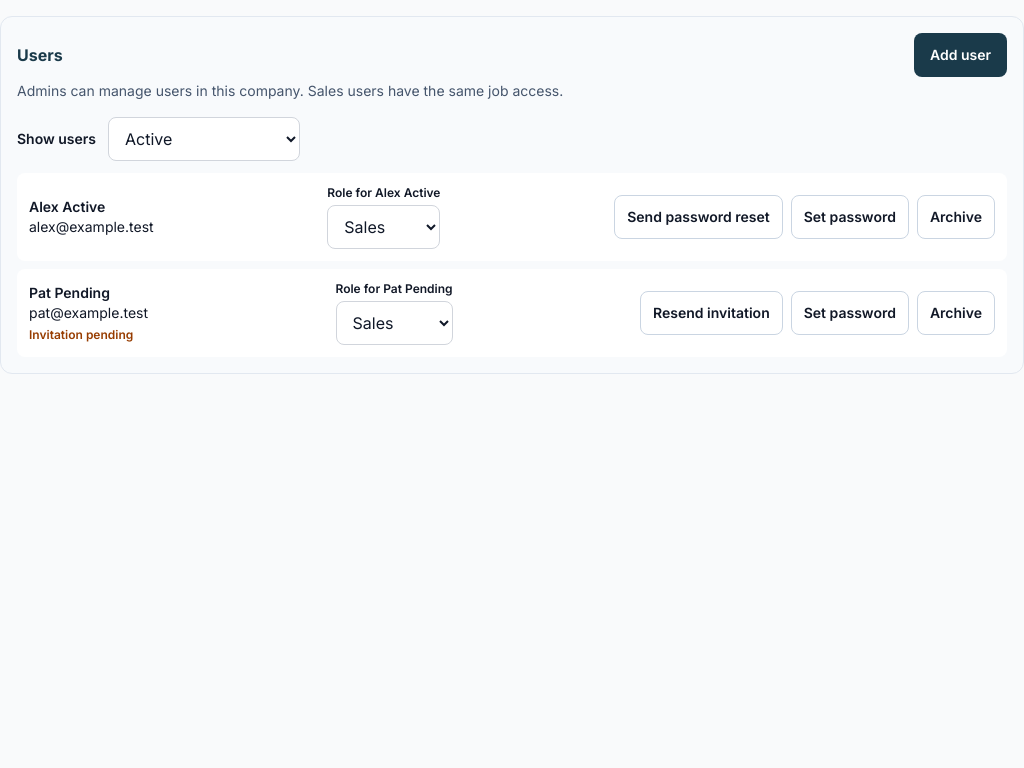
Test: Partner account management in normal Settings › defaults to invitations without password fields and refreshes users after sent email
Check: the text "Alex Active" is shown, box left=29, top=198, right=105, bottom=215
Click the button "Add user" at (960, 55), box left=914, top=33, right=1007, bottom=77
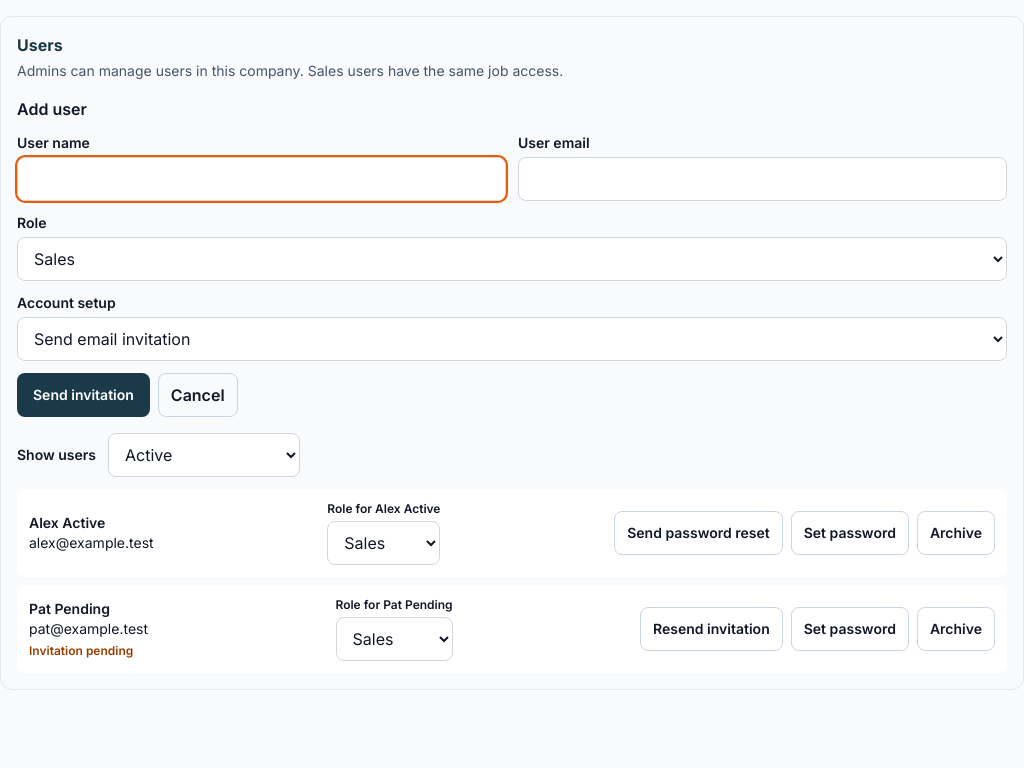
Type "New Person" into the field labelled "User name" at (262, 179), box left=17, top=157, right=506, bottom=201
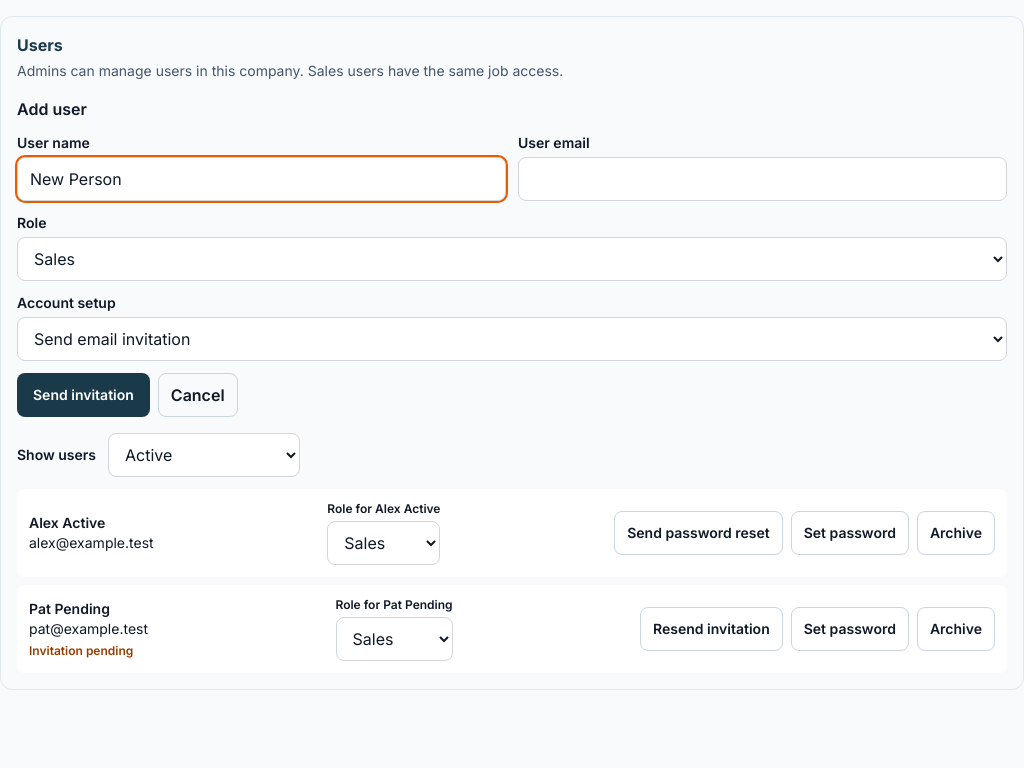
Type "NEW@example.test" into the field labelled "User email" at (762, 179), box left=518, top=157, right=1007, bottom=201
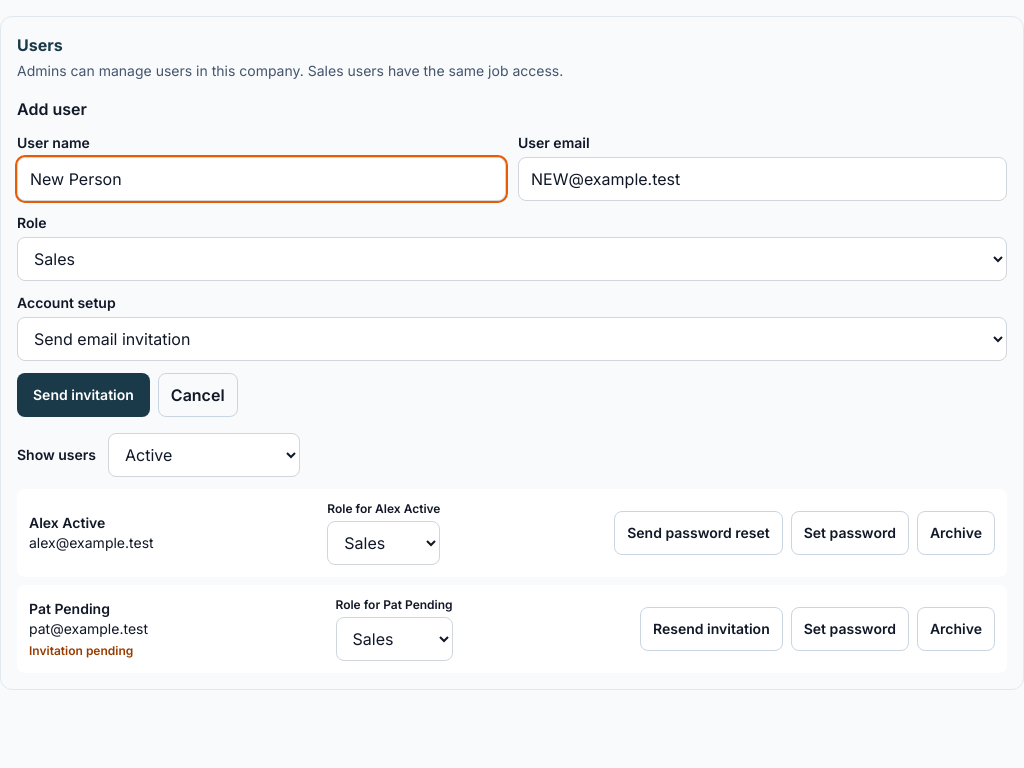
Click the button "Send invitation" at (83, 395), box left=17, top=373, right=150, bottom=417
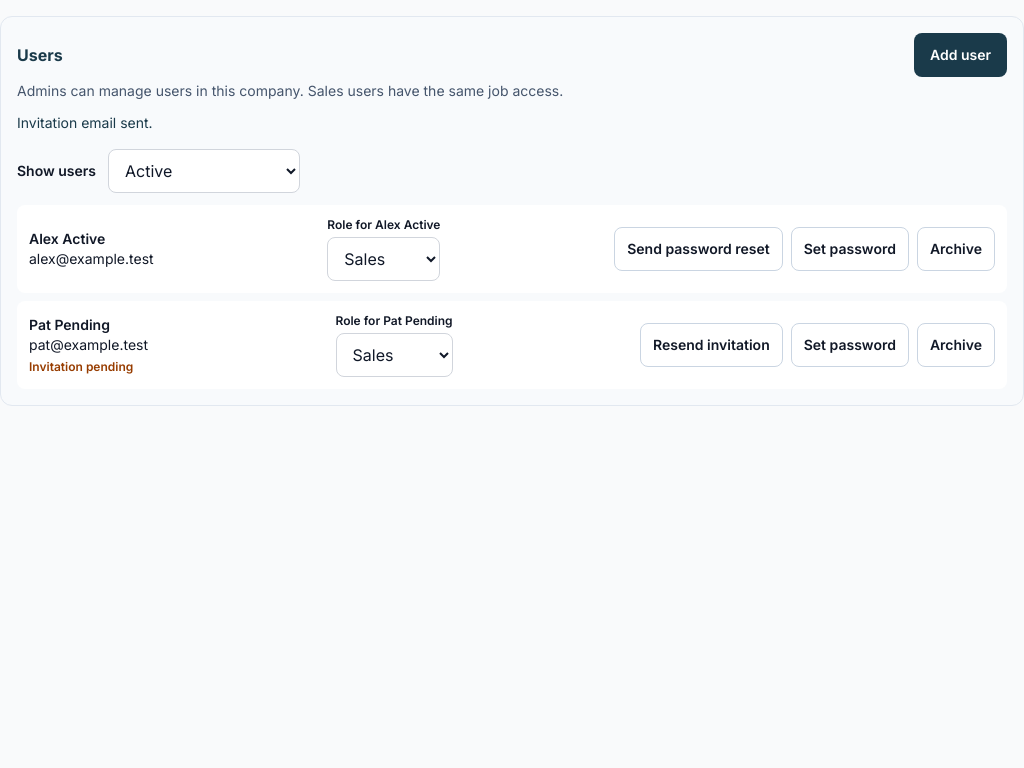
Check: the text "Invitation email sent." is shown, box left=17, top=114, right=153, bottom=131
Check: the label labelled "User name" is gone
